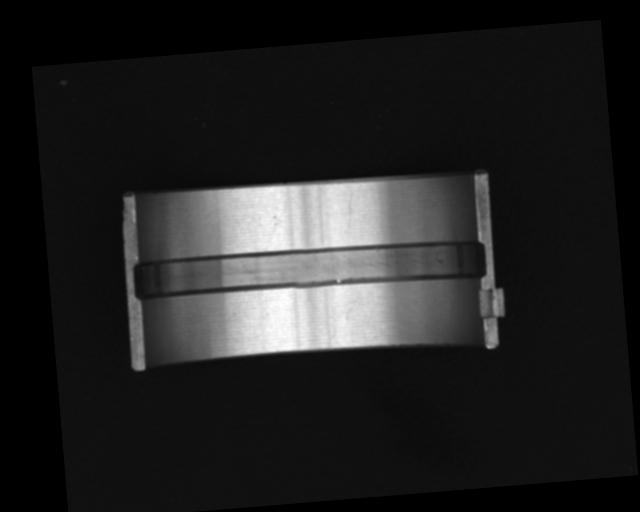gap: (130, 232, 485, 306)
nick: (343, 192, 355, 227)
